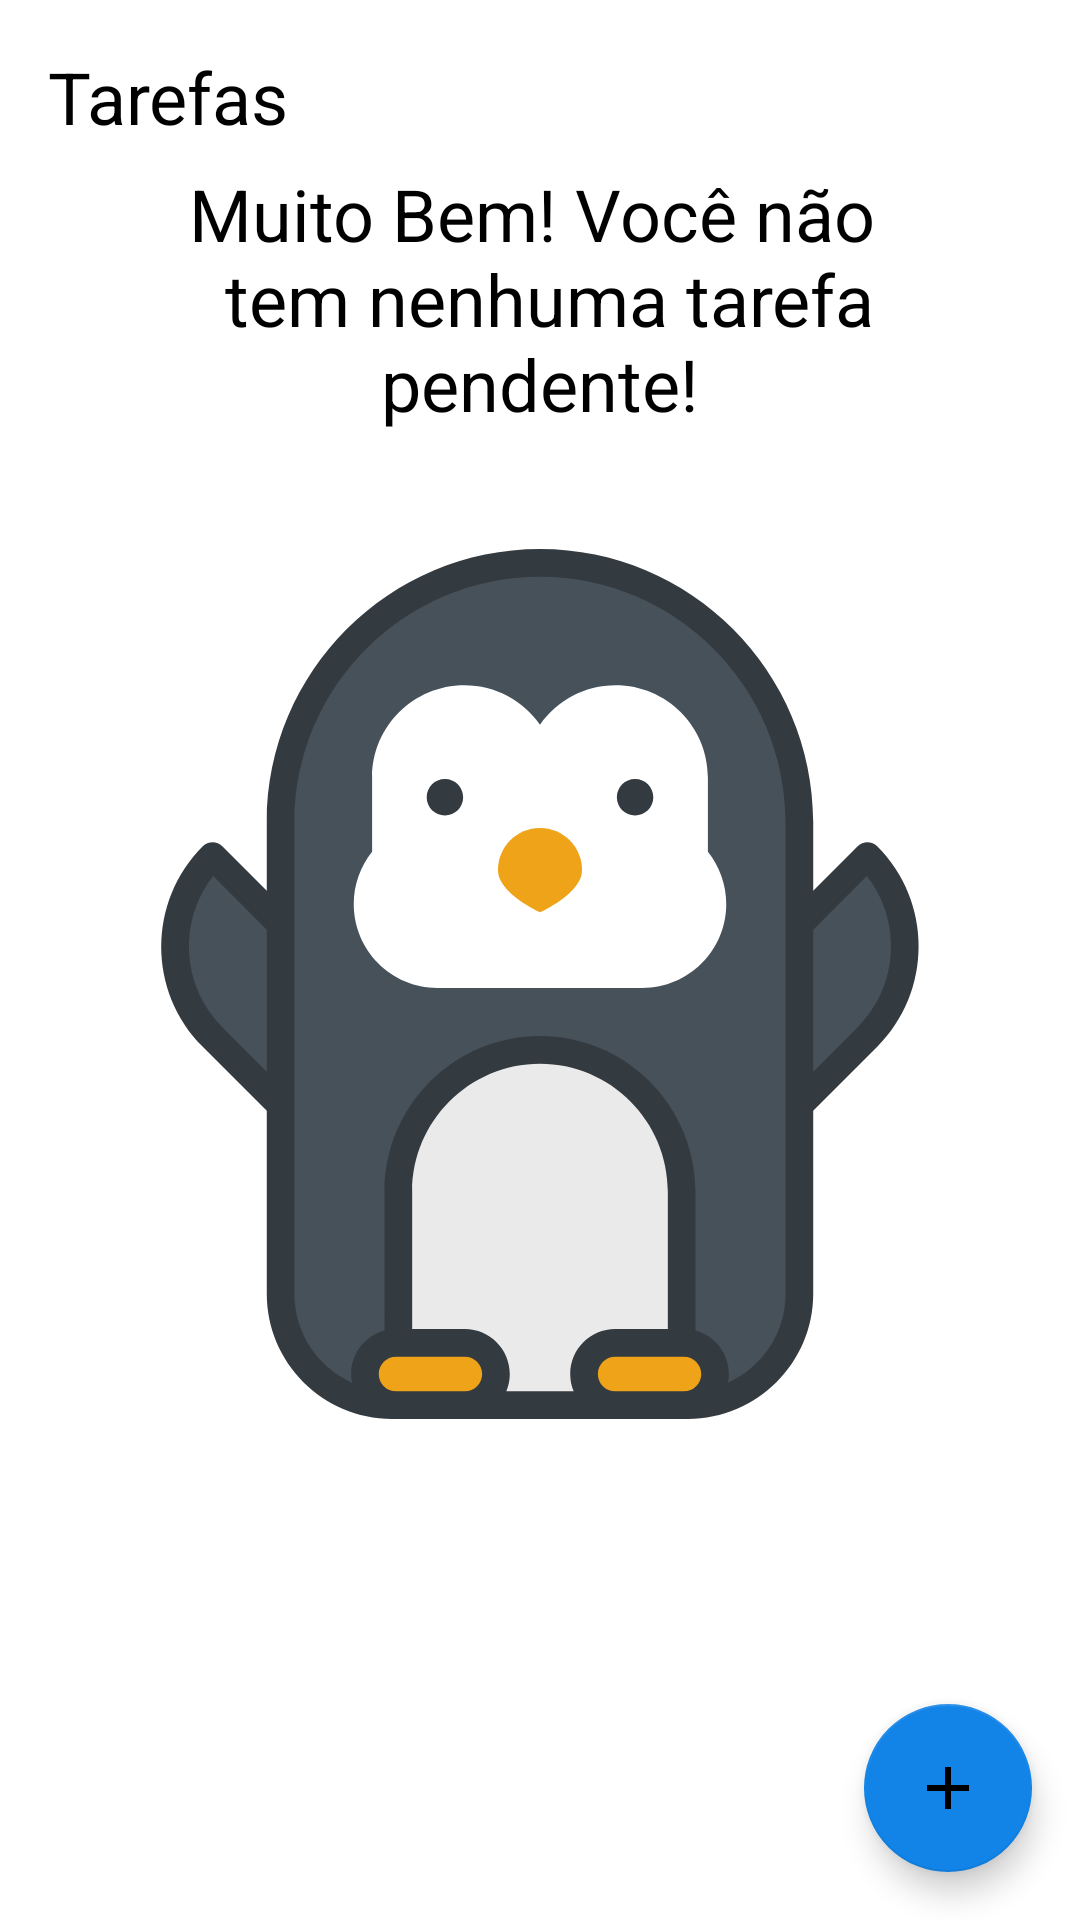

Point at icon controls on the screen. Image size 1080 x 1920, points as point (x, y).
Adicionar Nova Tarefa: point (948, 1788)
